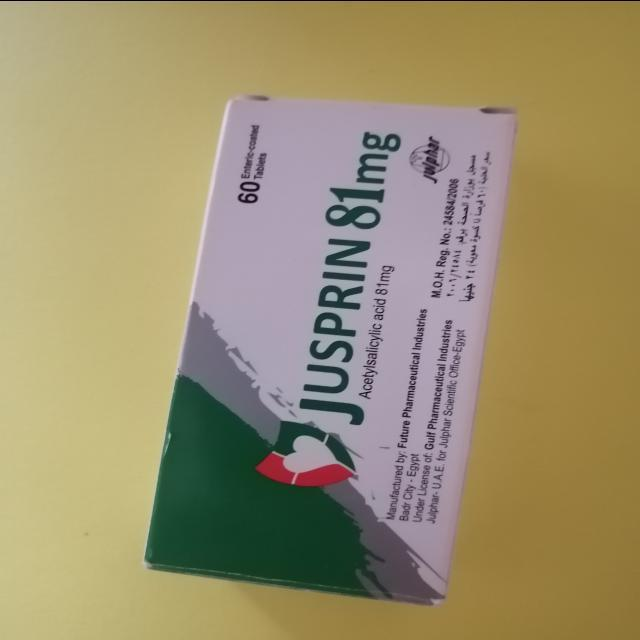Medicine Name: (284, 233, 373, 426)
